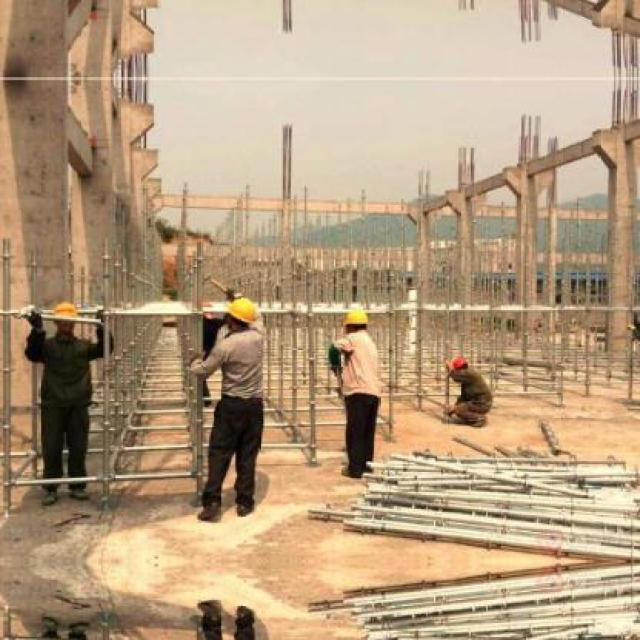helmet: (225, 297, 258, 334), (47, 300, 76, 334), (345, 306, 369, 343), (451, 356, 469, 378)
